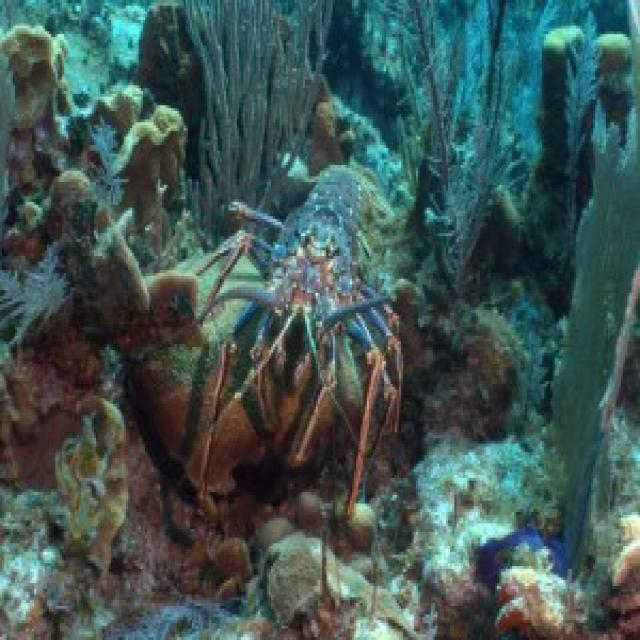lobsters: (162, 26, 462, 513)
